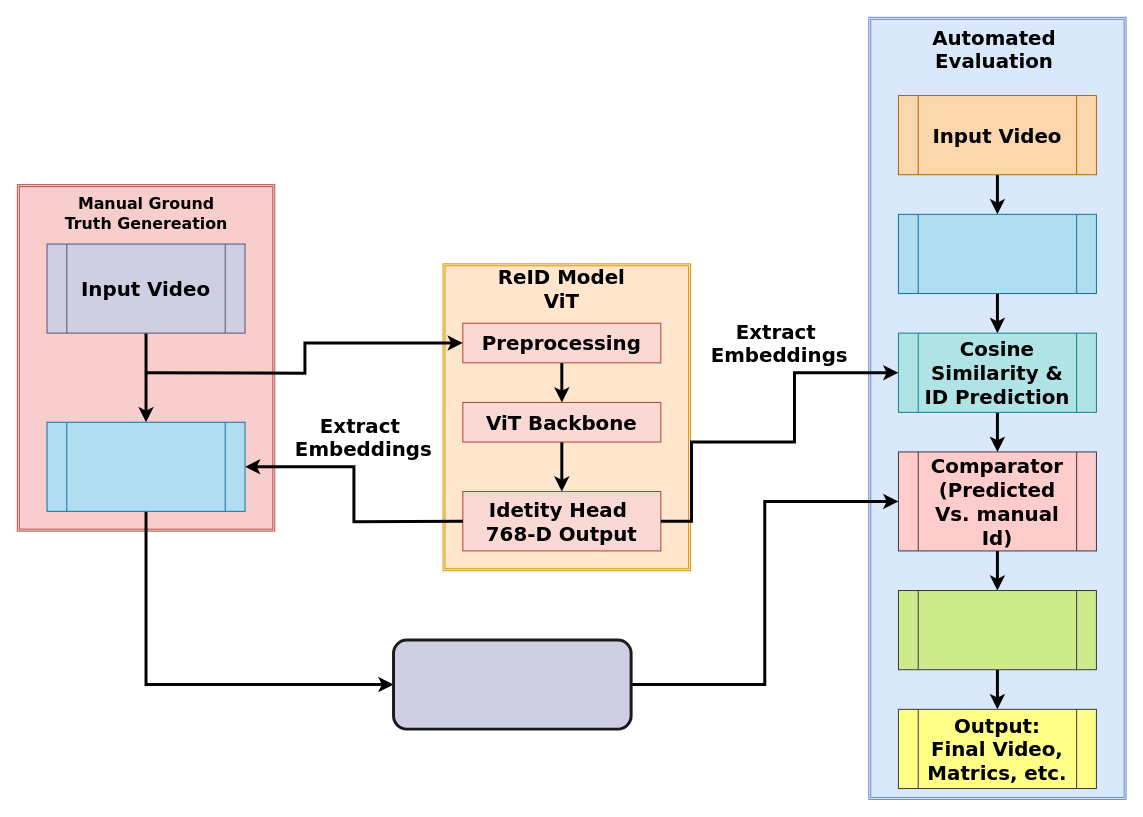
Some shapes in this 1143 by 817 pixel diagram are drawn without their labels. Each missing label, with the centre of its shape:
"Calculate Metrics" goes at [996,630].
"Output: Ground Truth JSON (frame_ids.json)" goes at [512,684].
"Person Detection (Yolov8n & Labelling Loop)" goes at [145,466].
"YOLO Detection & Crop" goes at [996,253].
